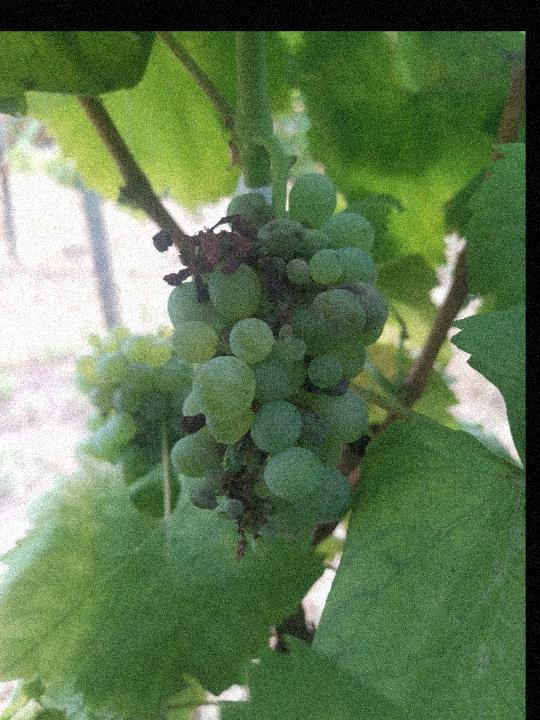grape: (152, 171, 390, 566)
